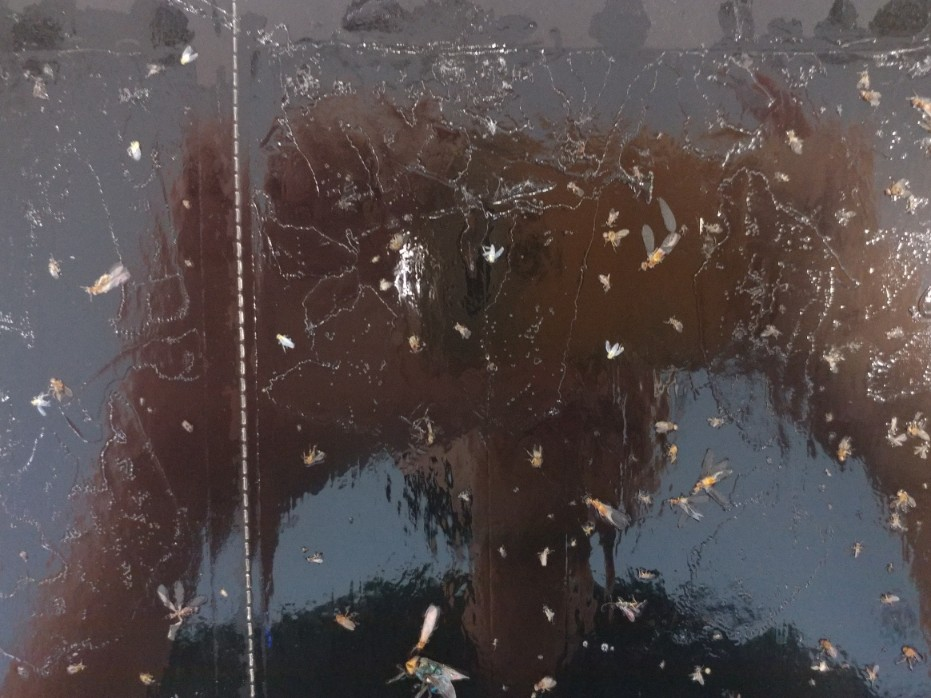house fly: (389, 645, 479, 698)
